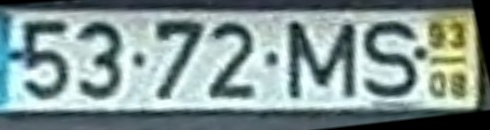2: (205, 20, 261, 104)
3: (72, 18, 128, 104)
5: (19, 17, 74, 106)
7: (151, 18, 210, 105)
M: (283, 18, 359, 101)
S: (360, 17, 419, 101)
